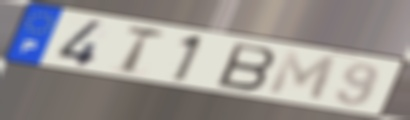1: (171, 34, 207, 84)
4: (53, 19, 110, 69)
9: (334, 60, 385, 108)
B: (215, 40, 279, 93)
M: (265, 48, 339, 104)
T: (120, 23, 169, 76)
